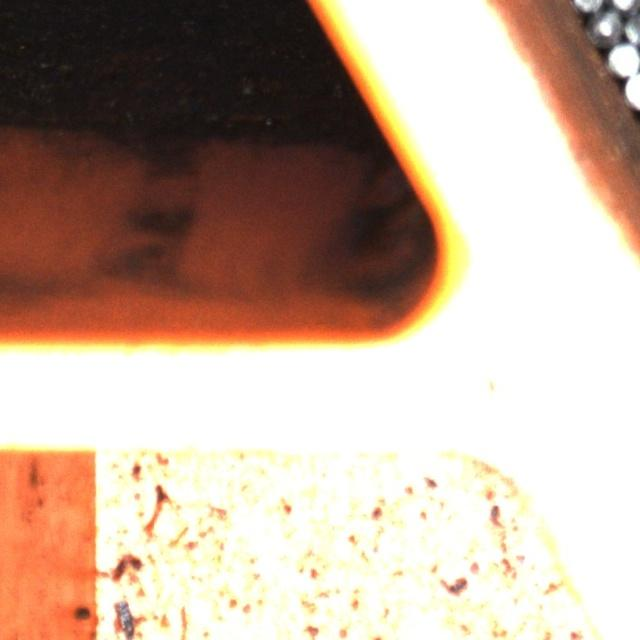tool: (589, 6, 623, 42), (606, 40, 640, 74), (624, 70, 640, 106), (624, 10, 640, 45)
